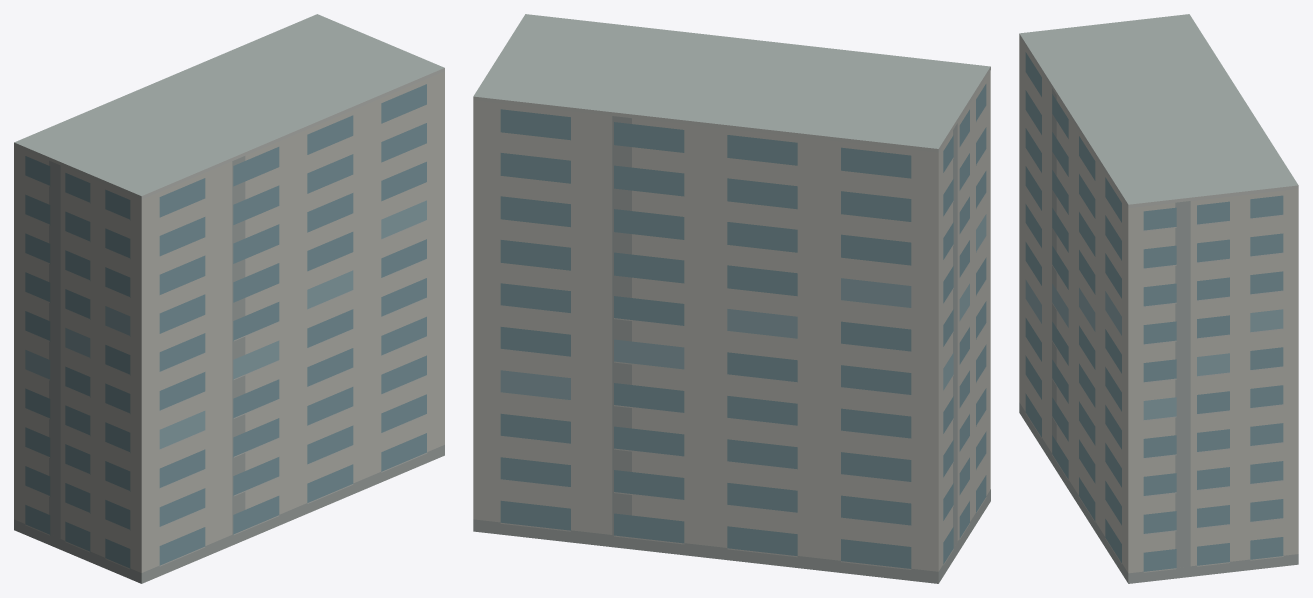
Rendered from residential-e08d32b1-16a1-42b6-8982-8c0e6cc3706e.glb.
3 views of the same model, side by side, from view 1: azimuth 30°, elevation 25°; view 2: azimuth 150°, elevation 25°; view 3: azimuth 270°, elevation 25° (orthographic). The views are drawn at different scales.
Visible parts, largest first — view 1: residential-e08d32b1-16a1-42b6-8982-8c0e6cc3706e.tmp; view 2: residential-e08d32b1-16a1-42b6-8982-8c0e6cc3706e.tmp; view 3: residential-e08d32b1-16a1-42b6-8982-8c0e6cc3706e.tmp.
Part boxes in pixels (box(x1,y1,x2,y2)): residential-e08d32b1-16a1-42b6-8982-8c0e6cc3706e.tmp: box(14, 14, 444, 583); residential-e08d32b1-16a1-42b6-8982-8c0e6cc3706e.tmp: box(473, 14, 990, 583); residential-e08d32b1-16a1-42b6-8982-8c0e6cc3706e.tmp: box(1019, 14, 1298, 583).
Size of the model in its own units: 30.21 by 28 by 18.7.
